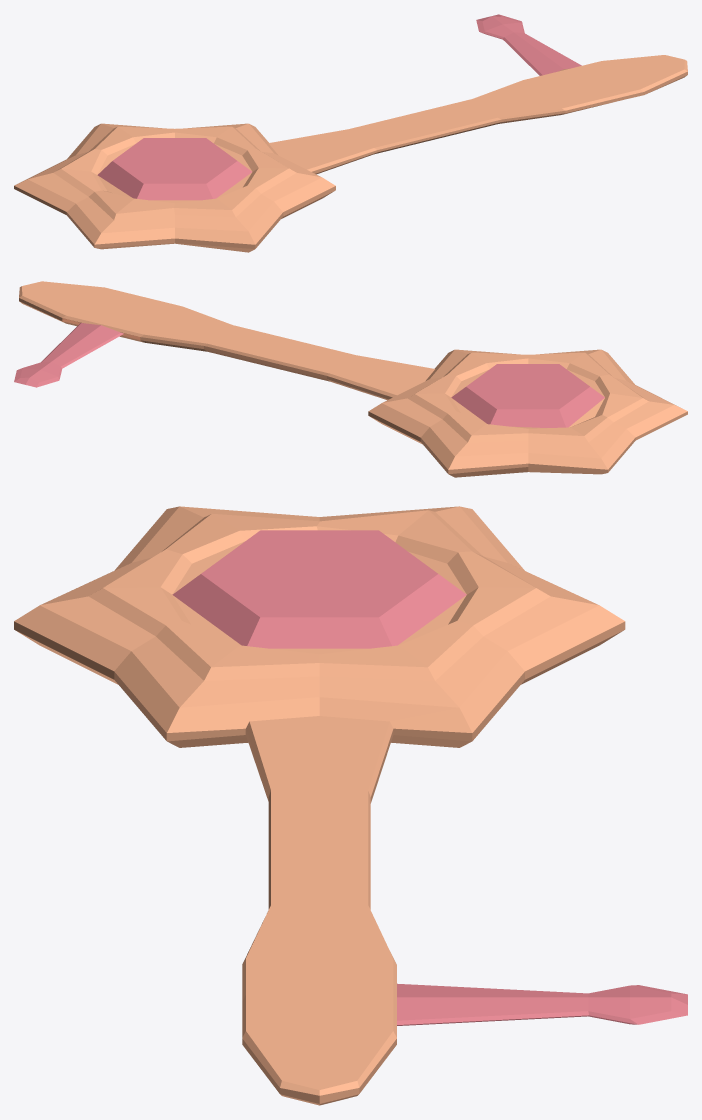
Rendered from Key.fbx.
3 views of the same model, one above another, from view 1: azimuth 30°, elevation 25°; view 2: azimuth 150°, elevation 25°; view 3: azimuth 270°, elevation 25° (orthographic). The views are drawn at different scales.
Visible parts, largest first — view 1: Cylinder; view 2: Cylinder; view 3: Cylinder.
Boxes of the visible parts, x1,y1,x2,y2 form: Cylinder: (14,14,687,252); Cylinder: (14,281,687,477); Cylinder: (14,506,687,1105).
Size of the model in its own units: 639 by 52.35 by 310.
1 material, 1 textured.
